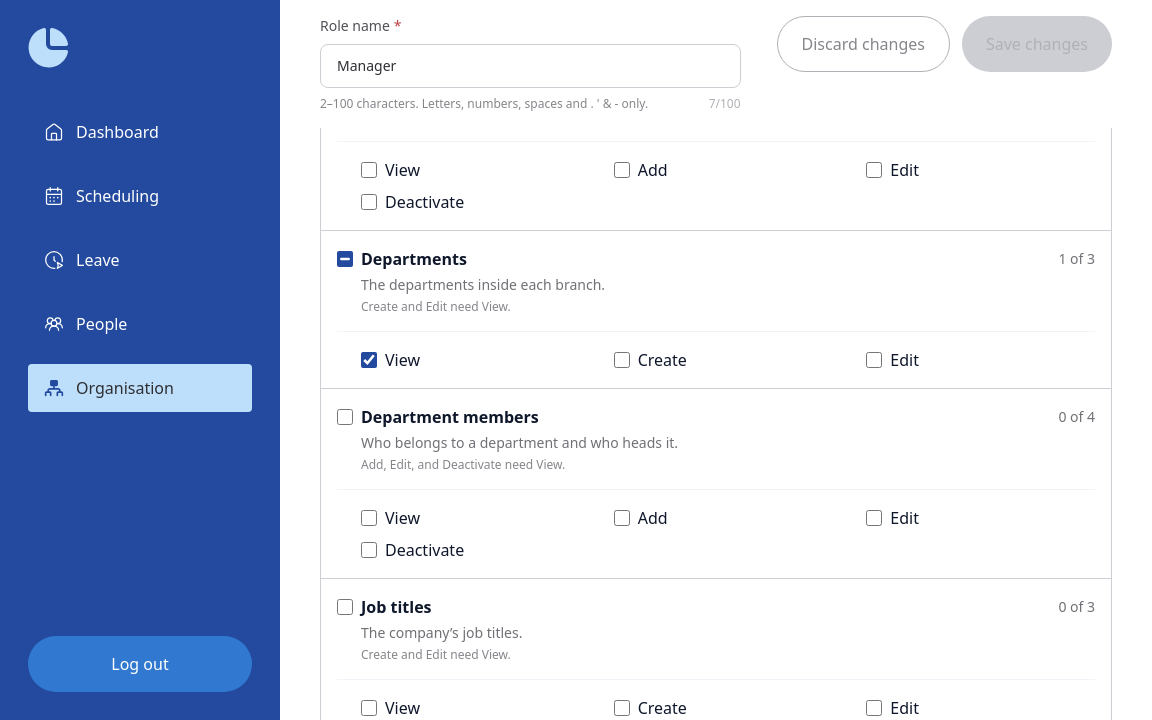
Scenario: System role editor › shows saved permissions when reopening the editor without a page refresh
(page scrolled)
Expected: the field labelled "Role name*" is shown, left=337, top=56, right=724, bottom=76
Click the checkbox labelled "Edit" below "1 of 3".
click(874, 360)  # box left=866, top=352, right=882, bottom=368
(page scrolled)
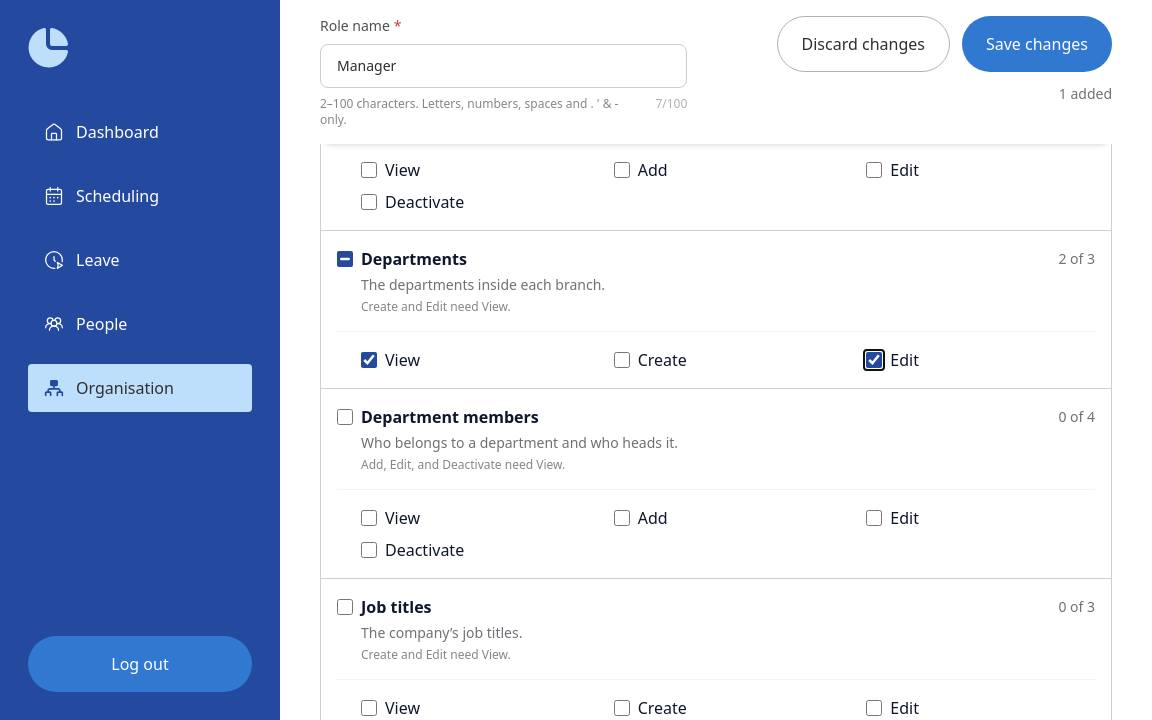
Click the button "Save changes".
click(1037, 44)  # box left=962, top=16, right=1112, bottom=72
(page scrolled)
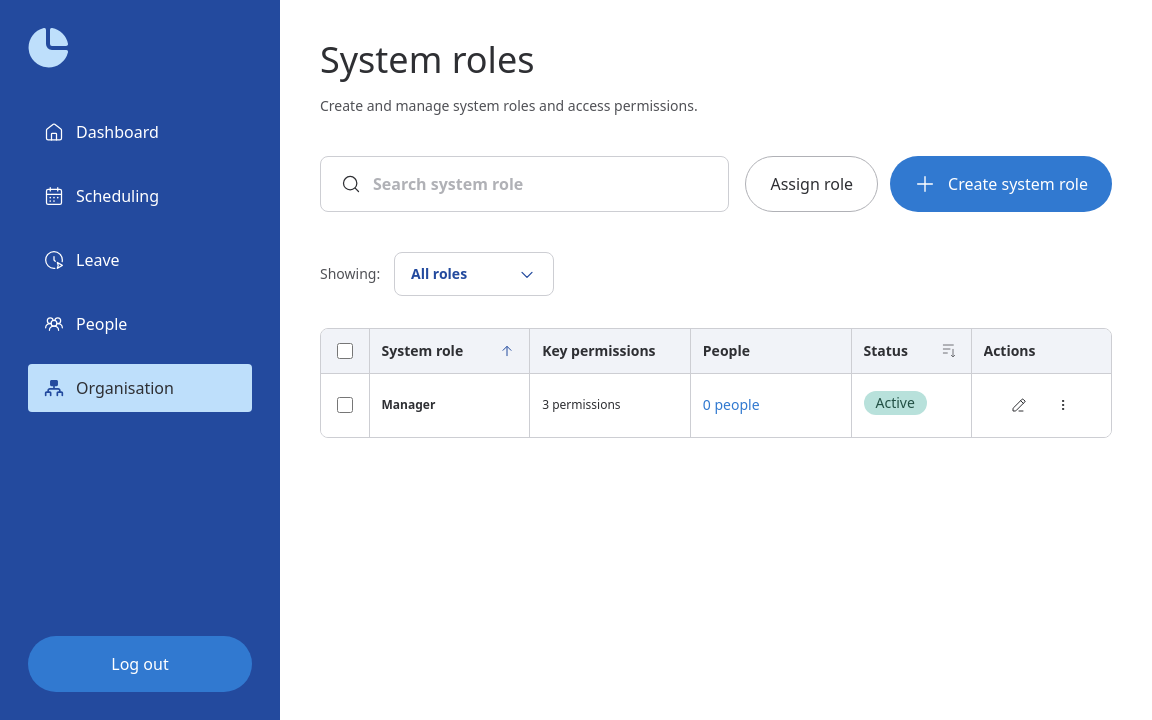
Result: the heading "System roles" is shown at left=320, top=35, right=534, bottom=84
Click the button named "Edit Manager".
click(1019, 405)  # box left=1001, top=387, right=1037, bottom=423
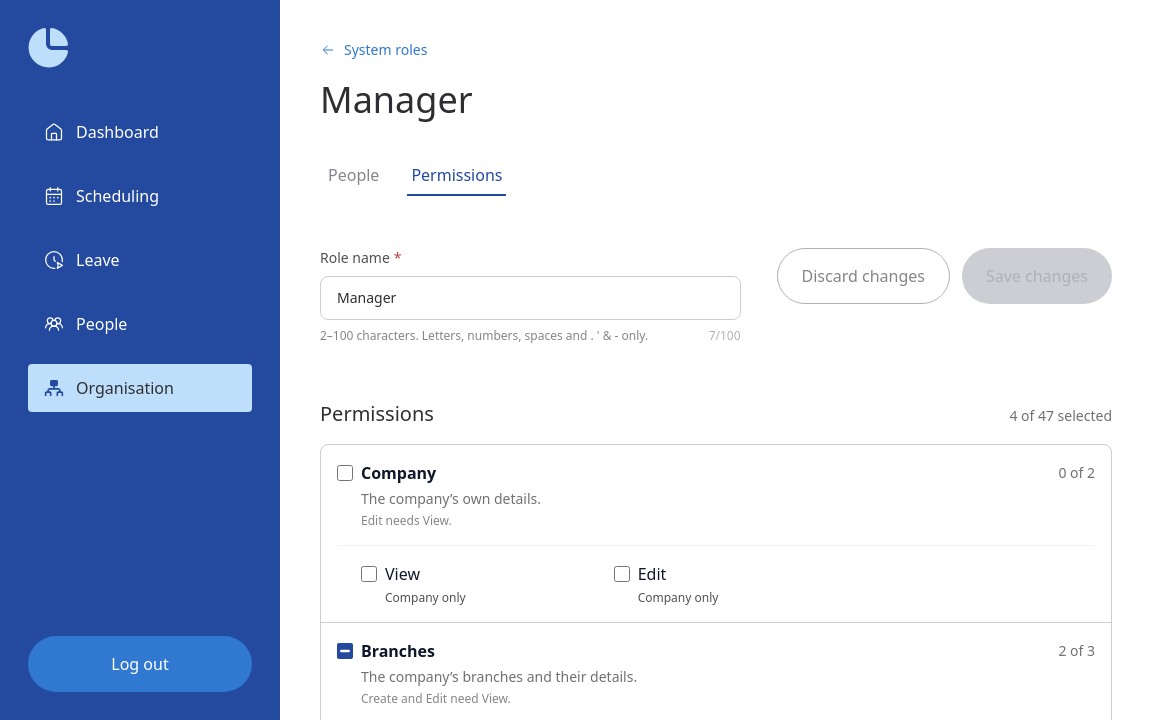
Result: the field labelled "Role name*" is shown at left=337, top=288, right=724, bottom=308
Result: the button "Save changes" is disabled at left=962, top=248, right=1112, bottom=304
